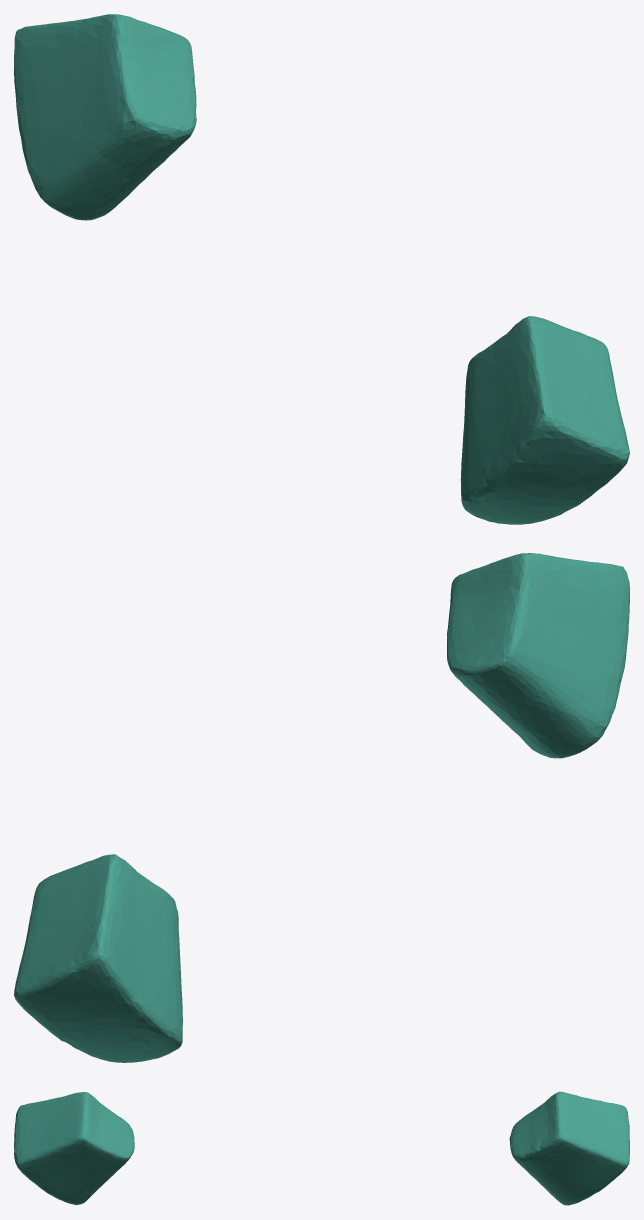
The picture shows the model from 3 angles, top to bottom: view 1: azimuth 30°, elevation 25°; view 2: azimuth 150°, elevation 25°; view 3: azimuth 270°, elevation 25°; orthographic projection. The views are drawn at different scales.
Visible parts, largest first — view 1: 353.obj; view 2: 353.obj; view 3: 353.obj.
Boxes of the visible parts, x1,y1,x2,y2 form: 353.obj: (14,14,629,524); 353.obj: (14,553,629,1062); 353.obj: (14,1091,629,1205).
Size of the model in its own units: 1415 by 1838 by 8889.
